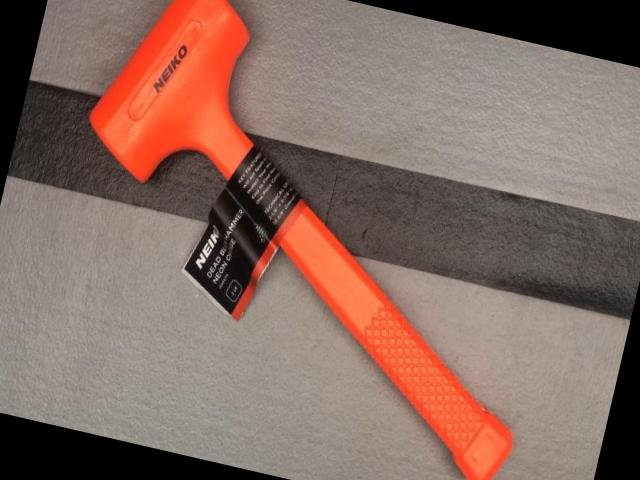hammer: (26, 0, 601, 480)
